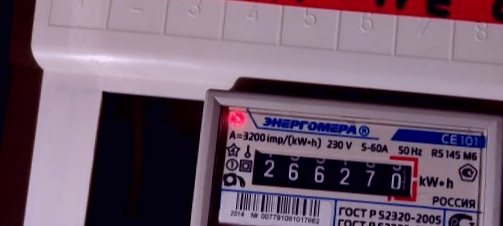0: (388, 171, 404, 192)
2: (262, 158, 277, 181), (339, 167, 353, 188)
6: (287, 162, 300, 184), (313, 165, 327, 185)
7: (364, 169, 376, 189)
screen: (239, 140, 427, 210)
